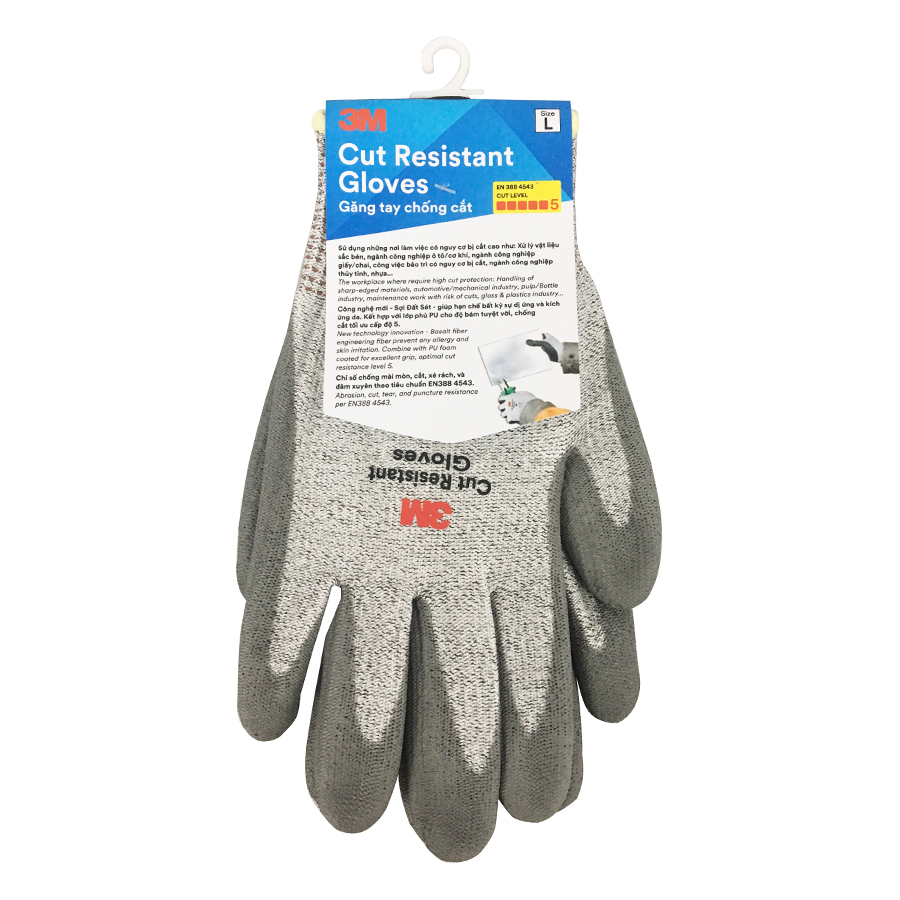3M: (397, 489, 458, 538), (334, 104, 393, 137)
